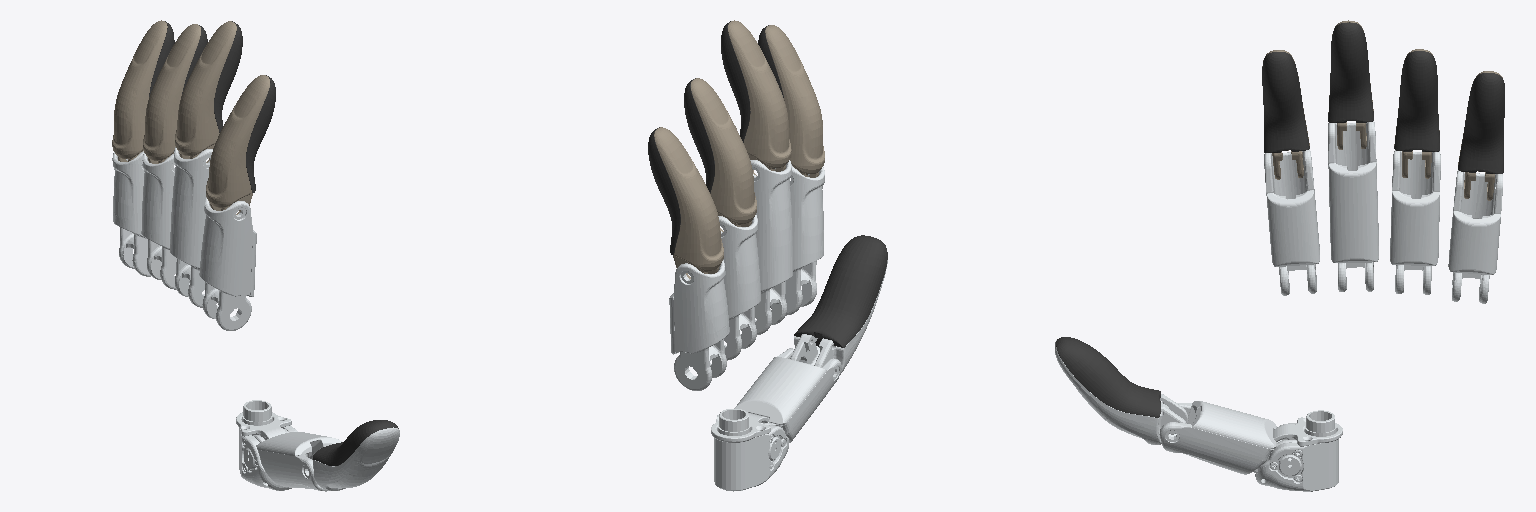
robot.urdf — ruihand6z:
<?xml version="1.0" encoding="utf-8"?>
<!-- This URDF was automatically created by SolidWorks to URDF Exporter! Originally created by [author] ([email redacted]) 
     Commit Version: 1.6.0-4-g7f85cfe  Build Version: 1.6.7995.38578
     For more information, please see http://wiki.ros.org/sw_urdf_exporter -->
<robot
  name="ruihand6z">
  <link
    name="base_link">
    <inertial>
      <origin
        xyz="-0.00261509912067082 -0.00202384901005411 0.0609899196930254"
        rpy="0 0 0" />
      <mass
        value="0.144625530976132" />
      <inertia
        ixx="0.000133309599124317"
        ixy="-1.82145713429529E-07"
        ixz="3.32894452619656E-06"
        iyy="8.49751509488818E-05"
        iyz="1.7292812695271E-06"
        izz="6.01735771930698E-05" />
    </inertial>
    <visual>
      <origin
        xyz="0 0 0"
        rpy="0 0 0" />
      <geometry>
        <mesh
          filename="package://ruihand6z/meshes/base_link.STL" />
      </geometry>
      <material
        name="">
        <color
          rgba="0.898039215686275 0.917647058823529 0.929411764705882 1" />
      </material>
    </visual>
    <collision>
      <origin
        xyz="0 0 0"
        rpy="0 0 0" />
      <geometry>
        <mesh
          filename="package://ruihand6z/meshes/base_link.STL" />
      </geometry>
    </collision>
  </link>
  <link
    name="fz11_Link">
    <inertial>
      <origin
        xyz="-0.00636137464373584 1.32504361038954E-07 0.00938049379418998"
        rpy="0 0 0" />
      <mass
        value="0.0118860026879453" />
      <inertia
        ixx="7.74702988388344E-07"
        ixy="9.44838007032962E-12"
        ixz="-1.45349151739363E-07"
        iyy="1.06344992792549E-06"
        iyz="7.07126022924055E-12"
        izz="1.01259075358287E-06" />
    </inertial>
    <visual>
      <origin
        xyz="0 0 0"
        rpy="0 0 0" />
      <geometry>
        <mesh
          filename="package://ruihand6z/meshes/fz11_Link.STL" />
      </geometry>
      <material
        name="">
        <color
          rgba="0.898039215686275 0.917647058823529 0.929411764705882 1" />
      </material>
    </visual>
    <collision>
      <origin
        xyz="0 0 0"
        rpy="0 0 0" />
      <geometry>
        <mesh
          filename="package://ruihand6z/meshes/fz11_Link.STL" />
      </geometry>
    </collision>
  </link>
  <joint
    name="fz11"
    type="revolute">
    <origin
      xyz="0.0135 -0.022 0.0398"
      rpy="0 0 1.5708" />
    <parent
      link="base_link" />
    <child
      link="fz11_Link" />
    <axis
      xyz="0 0 1" />
    <limit
      lower="0"
      upper="2.356"
      effort="0"
      velocity="0" />
  </joint>
  <link
    name="fz12_Link">
    <inertial>
      <origin
        xyz="-0.0171306596068069 0.00371895991913085 4.99658495023425E-07"
        rpy="0 0 0" />
      <mass
        value="0.0125497959689692" />
      <inertia
        ixx="8.09093816336842E-07"
        ixy="5.16426686845547E-07"
        ixz="2.07629546130886E-10"
        iyy="2.83181034231341E-06"
        iyz="1.04480554936718E-11"
        izz="2.66845480195757E-06" />
    </inertial>
    <visual>
      <origin
        xyz="0 0 0"
        rpy="0 0 0" />
      <geometry>
        <mesh
          filename="package://ruihand6z/meshes/fz12_Link.STL" />
      </geometry>
      <material
        name="">
        <color
          rgba="0.898039215686275 0.917647058823529 0.929411764705882 1" />
      </material>
    </visual>
    <collision>
      <origin
        xyz="0 0 0"
        rpy="0 0 0" />
      <geometry>
        <mesh
          filename="package://ruihand6z/meshes/fz12_Link.STL" />
      </geometry>
    </collision>
  </link>
  <joint
    name="fz12"
    type="revolute">
    <origin
      xyz="-0.0105 0 0.0107"
      rpy="1.5708 0 0" />
    <parent
      link="fz11_Link" />
    <child
      link="fz12_Link" />
    <axis
      xyz="0 0 -1" />
    <limit
      lower="0"
      upper="0.698"
      effort="0"
      velocity="0" />
  </joint>
  <link
    name="fz13_Link">
    <inertial>
      <origin
        xyz="-0.0158452246782004 0.00619313031274138 -5.24698446713323E-06"
        rpy="0 0 0" />
      <mass
        value="0.00766844548693782" />
      <inertia
        ixx="7.70926142561633E-07"
        ixy="6.47378725305476E-07"
        ixz="-6.26868773712833E-10"
        iyy="1.36028636261355E-06"
        iyz="3.0858883161577E-10"
        izz="1.6484807866159E-06" />
    </inertial>
    <visual>
      <origin
        xyz="0 0 0"
        rpy="0 0 0" />
      <geometry>
        <mesh
          filename="package://ruihand6z/meshes/fz13_Link.STL" />
      </geometry>
      <material
        name="">
        <color
          rgba="0.898039215686275 0.917647058823529 0.929411764705882 1" />
      </material>
    </visual>
    <collision>
      <origin
        xyz="0 0 0"
        rpy="0 0 0" />
      <geometry>
        <mesh
          filename="package://ruihand6z/meshes/fz13_Link.STL" />
      </geometry>
    </collision>
  </link>
  <joint
    name="fz13"
    type="revolute">
    <origin
      xyz="-0.040457 0.011223 0"
      rpy="0 0 0" />
    <parent
      link="fz12_Link" />
    <child
      link="fz13_Link" />
    <axis
      xyz="0 0 -1" />
    <limit
      lower="0"
      upper="1.169"
      effort="0"
      velocity="0" />
  </joint>
  <link
    name="fz14_Link">
    <inertial>
      <origin
        xyz="6.84221826707798E-06 -0.00329677647235913 -0.0165004874842477"
        rpy="0 0 0" />
      <mass
        value="0.00378673281389061" />
      <inertia
        ixx="4.70044970140894E-07"
        ixy="-9.16610951761662E-13"
        ixz="9.80771601813381E-11"
        iyy="4.91875647343619E-07"
        iyz="-1.26714352849381E-07"
        izz="1.41742406291919E-07" />
    </inertial>
    <visual>
      <origin
        xyz="0 0 0"
        rpy="0 0 0" />
      <geometry>
        <mesh
          filename="package://ruihand6z/meshes/fz14_Link.STL" />
      </geometry>
      <material
        name="">
        <color
          rgba="0.298039215686275 0.298039215686275 0.298039215686275 1" />
      </material>
    </visual>
    <collision>
      <origin
        xyz="0 0 0"
        rpy="0 0 0" />
      <geometry>
        <mesh
          filename="package://ruihand6z/meshes/fz14_Link.STL" />
      </geometry>
    </collision>
  </link>
  <joint
    name="fz14"
    type="revolute">
    <origin
      xyz="-0.036284 0.0268 0"
      rpy="-0.3665 -1.5708 0" />
    <parent
      link="fz13_Link" />
    <child
      link="fz14_Link" />
    <axis
      xyz="0 0 -1" />
    <limit
      lower="0"
      upper="0"
      effort="0"
      velocity="0" />
  </joint>
  <link
    name="fz21_Link">
    <inertial>
      <origin
        xyz="-0.0183100214086785 -0.00110403770235035 1.45621593276163E-06"
        rpy="0 0 0" />
      <mass
        value="0.0100639388101722" />
      <inertia
        ixx="4.62549859534186E-07"
        ixy="-1.43110207723793E-07"
        ixz="2.05628850227063E-10"
        iyy="2.22041832229495E-06"
        iyz="7.63349863278686E-11"
        izz="2.08162821109976E-06" />
    </inertial>
    <visual>
      <origin
        xyz="0 0 0"
        rpy="0 0 0" />
      <geometry>
        <mesh
          filename="package://ruihand6z/meshes/fz21_Link.STL" />
      </geometry>
      <material
        name="">
        <color
          rgba="0.898039215686275 0.917647058823529 0.929411764705882 1" />
      </material>
    </visual>
    <collision>
      <origin
        xyz="0 0 0"
        rpy="0 0 0" />
      <geometry>
        <mesh
          filename="package://ruihand6z/meshes/fz21_Link.STL" />
      </geometry>
    </collision>
  </link>
  <joint
    name="fz21"
    type="revolute">
    <origin
      xyz="-0.0035 -0.029833 0.11095"
      rpy="3.1416 1.4923 1.5708" />
    <parent
      link="base_link" />
    <child
      link="fz21_Link" />
    <axis
      xyz="0 0 -1" />
    <limit
      lower="0"
      upper="1.518"
      effort="0"
      velocity="0" />
  </joint>
  <link
    name="fz22_Link">
    <inertial>
      <origin
        xyz="-0.0162663890924856 -0.00032857563536115 7.63729580743888E-07"
        rpy="0 0 0" />
      <mass
        value="0.00358588124079119" />
      <inertia
        ixx="1.44429040318132E-07"
        ixy="1.05993289352036E-07"
        ixz="-2.72822254662679E-11"
        iyy="7.23455267802395E-07"
        iyz="3.04879521204743E-11"
        izz="7.27926306560542E-07" />
    </inertial>
    <visual>
      <origin
        xyz="0 0 0"
        rpy="0 0 0" />
      <geometry>
        <mesh
          filename="package://ruihand6z/meshes/fz22_Link.STL" />
      </geometry>
      <material
        name="">
        <color
          rgba="0.658823529411765 0.619607843137255 0.56078431372549 1" />
      </material>
    </visual>
    <collision>
      <origin
        xyz="0 0 0"
        rpy="0 0 0" />
      <geometry>
        <mesh
          filename="package://ruihand6z/meshes/fz22_Link.STL" />
      </geometry>
    </collision>
  </link>
  <joint
    name="fz22"
    type="revolute">
    <origin
      xyz="-0.0419 -0.001 0"
      rpy="0 0 0" />
    <parent
      link="fz21_Link" />
    <child
      link="fz22_Link" />
    <axis
      xyz="0 0 -1" />
    <limit
      lower="0"
      upper="1.623"
      effort="0"
      velocity="0" />
  </joint>
  <link
    name="fz23_Link">
    <inertial>
      <origin
        xyz="5.01939634914121E-06 0.00358041979242141 -0.0177336235160931"
        rpy="0 0 0" />
      <mass
        value="0.00260328499217126" />
      <inertia
        ixx="3.22603614487991E-07"
        ixy="-6.28873843071622E-12"
        ixz="9.57453494543153E-11"
        iyy="3.1137947502367E-07"
        iyz="9.01377966391627E-08"
        izz="7.26739486599914E-08" />
    </inertial>
    <visual>
      <origin
        xyz="0 0 0"
        rpy="0 0 0" />
      <geometry>
        <mesh
          filename="package://ruihand6z/meshes/fz23_Link.STL" />
      </geometry>
      <material
        name="">
        <color
          rgba="0.298039215686275 0.298039215686275 0.298039215686275 1" />
      </material>
    </visual>
    <collision>
      <origin
        xyz="0 0 0"
        rpy="0 0 0" />
      <geometry>
        <mesh
          filename="package://ruihand6z/meshes/fz23_Link.STL" />
      </geometry>
    </collision>
  </link>
  <joint
    name="fz23"
    type="revolute">
    <origin
      xyz="-0.043692 0.011217 0"
      rpy="1.5708 1.5695 -1.5543" />
    <parent
      link="fz22_Link" />
    <child
      link="fz23_Link" />
    <axis
      xyz="0 0 -1" />
    <limit
      lower="0"
      upper="0"
      effort="0"
      velocity="0" />
  </joint>
  <link
    name="fz31_Link">
    <inertial>
      <origin
        xyz="-0.0233372043143448 -0.000590478503409209 1.04886742833708E-06"
        rpy="0 0 0" />
      <mass
        value="0.00829865788114667" />
      <inertia
        ixx="3.67197735996417E-07"
        ixy="-1.18936164176857E-07"
        ixz="1.55843724157167E-10"
        iyy="2.3734329678931E-06"
        iyz="3.77450724437793E-11"
        izz="2.26081374668809E-06" />
    </inertial>
    <visual>
      <origin
        xyz="0 0 0"
        rpy="0 0 0" />
      <geometry>
        <mesh
          filename="package://ruihand6z/meshes/fz31_Link.STL" />
      </geometry>
      <material
        name="">
        <color
          rgba="0.898039215686275 0.917647058823529 0.929411764705882 1" />
      </material>
    </visual>
    <collision>
      <origin
        xyz="0 0 0"
        rpy="0 0 0" />
      <geometry>
        <mesh
          filename="package://ruihand6z/meshes/fz31_Link.STL" />
      </geometry>
    </collision>
  </link>
  <joint
    name="fz31"
    type="revolute">
    <origin
      xyz="-0.0035 -0.009945 0.112"
      rpy="3.1416 1.5446 1.5708" />
    <parent
      link="base_link" />
    <child
      link="fz31_Link" />
    <axis
      xyz="0 0 -1" />
    <limit
      lower="0"
      upper="1.571"
      effort="0"
      velocity="0" />
  </joint>
  <link
    name="fz32_Link">
    <inertial>
      <origin
        xyz="-0.016267707795044 -0.000256548647881605 7.09501456184949E-07"
        rpy="0 0 0" />
      <mass
        value="0.00358589458230619" />
      <inertia
        ixx="1.45377941149196E-07"
        ixy="1.08551160226217E-07"
        ixz="-3.05507403832043E-11"
        iyy="7.22506767907826E-07"
        iyz="3.07132553302964E-11"
        izz="7.27926863638964E-07" />
    </inertial>
    <visual>
      <origin
        xyz="0 0 0"
        rpy="0 0 0" />
      <geometry>
        <mesh
          filename="package://ruihand6z/meshes/fz32_Link.STL" />
      </geometry>
      <material
        name="">
        <color
          rgba="0.658823529411765 0.619607843137255 0.56078431372549 1" />
      </material>
    </visual>
    <collision>
      <origin
        xyz="0 0 0"
        rpy="0 0 0" />
      <geometry>
        <mesh
          filename="package://ruihand6z/meshes/fz32_Link.STL" />
      </geometry>
    </collision>
  </link>
  <joint
    name="fz32"
    type="revolute">
    <origin
      xyz="-0.0519 -0.001 0"
      rpy="0 0 0" />
    <parent
      link="fz31_Link" />
    <child
      link="fz32_Link" />
    <axis
      xyz="0 0 -1" />
    <limit
      lower="0"
      upper="1.641"
      effort="0"
      velocity="0" />
  </joint>
  <link
    name="fz33_Link">
    <inertial>
      <origin
        xyz="1.37260992284912E-06 0.0035803233705618 -0.0177332743500691"
        rpy="0 0 0" />
      <mass
        value="0.00260331177753113" />
      <inertia
        ixx="3.22618051421039E-07"
        ixy="3.25713153352679E-12"
        ixz="9.69403513262157E-12"
        iyy="3.11391716342147E-07"
        iyz="9.01418764699119E-08"
        izz="7.26739552705994E-08" />
    </inertial>
    <visual>
      <origin
        xyz="0 0 0"
        rpy="0 0 0" />
      <geometry>
        <mesh
          filename="package://ruihand6z/meshes/fz33_Link.STL" />
      </geometry>
      <material
        name="">
        <color
          rgba="0.298039215686275 0.298039215686275 0.298039215686275 1" />
      </material>
    </visual>
    <collision>
      <origin
        xyz="0 0 0"
        rpy="0 0 0" />
      <geometry>
        <mesh
          filename="package://ruihand6z/meshes/fz33_Link.STL" />
      </geometry>
    </collision>
  </link>
  <joint
    name="fz33"
    type="revolute">
    <origin
      xyz="-0.043641 0.01141 0"
      rpy="1.5708 1.5705 -1.5587" />
    <parent
      link="fz32_Link" />
    <child
      link="fz33_Link" />
    <axis
      xyz="0 0 -1" />
    <limit
      lower="0"
      upper="0"
      effort="0"
      velocity="0" />
  </joint>
  <link
    name="fz41_Link">
    <inertial>
      <origin
        xyz="-0.0183100239662456 -0.00110404357001215 1.44449168429719E-06"
        rpy="0 0 0" />
      <mass
        value="0.0100639395246075" />
      <inertia
        ixx="4.62549923176114E-07"
        ixy="-1.43110791933657E-07"
        ixz="2.04440787125584E-10"
        iyy="2.22041842134978E-06"
        iyz="7.50863566540316E-11"
        izz="2.0816291905166E-06" />
    </inertial>
    <visual>
      <origin
        xyz="0 0 0"
        rpy="0 0 0" />
      <geometry>
        <mesh
          filename="package://ruihand6z/meshes/fz41_Link.STL" />
      </geometry>
      <material
        name="">
        <color
          rgba="0.898039215686275 0.917647058823529 0.929411764705882 1" />
      </material>
    </visual>
    <collision>
      <origin
        xyz="0 0 0"
        rpy="0 0 0" />
      <geometry>
        <mesh
          filename="package://ruihand6z/meshes/fz41_Link.STL" />
      </geometry>
    </collision>
  </link>
  <joint
    name="fz41"
    type="revolute">
    <origin
      xyz="-0.0035 0.009945 0.11099"
      rpy="0 1.5446 -1.5708" />
    <parent
      link="base_link" />
    <child
      link="fz41_Link" />
    <axis
      xyz="0 0 -1" />
    <limit
      lower="0"
      upper="1.571"
      effort="0"
      velocity="0" />
  </joint>
  <link
    name="fz42_Link">
    <inertial>
      <origin
        xyz="-0.0162670020037646 -0.000328352735815995 3.07883416161142E-07"
        rpy="0 0 0" />
      <mass
        value="0.00358604216233826" />
      <inertia
        ixx="1.44429145926852E-07"
        ixy="1.06000284346228E-07"
        ixz="-4.96653342664326E-11"
        iyy="7.23505035419092E-07"
        iyz="2.38944350125517E-11"
        izz="7.2797707549858E-07" />
    </inertial>
    <visual>
      <origin
        xyz="0 0 0"
        rpy="0 0 0" />
      <geometry>
        <mesh
          filename="package://ruihand6z/meshes/fz42_Link.STL" />
      </geometry>
      <material
        name="">
        <color
          rgba="0.658823529411765 0.619607843137255 0.56078431372549 1" />
      </material>
    </visual>
    <collision>
      <origin
        xyz="0 0 0"
        rpy="0 0 0" />
      <geometry>
        <mesh
          filename="package://ruihand6z/meshes/fz42_Link.STL" />
      </geometry>
    </collision>
  </link>
  <joint
    name="fz42"
    type="revolute">
    <origin
      xyz="-0.0419 -0.001 0"
      rpy="0 0 0" />
    <parent
      link="fz41_Link" />
    <child
      link="fz42_Link" />
    <axis
      xyz="0 0 -1" />
    <limit
      lower="0"
      upper="1.658"
      effort="0"
      velocity="0" />
  </joint>
  <link
    name="fz43_Link">
    <inertial>
      <origin
        xyz="-1.80939820419376E-06 0.0035802583127047 -0.0177330843414484"
        rpy="0 0 0" />
      <mass
        value="0.00260328927031042" />
      <inertia
        ixx="3.22619446745819E-07"
        ixy="5.22933144242645E-12"
        ixz="-4.37845727909771E-11"
        iyy="3.11392771355379E-07"
        iyz="9.01416934497917E-08"
        izz="7.26723312106009E-08" />
    </inertial>
    <visual>
      <origin
        xyz="0 0 0"
        rpy="0 0 0" />
      <geometry>
        <mesh
          filename="package://ruihand6z/meshes/fz43_Link.STL" />
      </geometry>
      <material
        name="">
        <color
          rgba="0.298039215686275 0.298039215686275 0.298039215686275 1" />
      </material>
    </visual>
    <collision>
      <origin
        xyz="0 0 0"
        rpy="0 0 0" />
      <geometry>
        <mesh
          filename="package://ruihand6z/meshes/fz43_Link.STL" />
      </geometry>
    </collision>
  </link>
  <joint
    name="fz43"
    type="revolute">
    <origin
      xyz="-0.043692 0.011217 0"
      rpy="-1.5708 1.5704 1.5873" />
    <parent
      link="fz42_Link" />
    <child
      link="fz43_Link" />
    <axis
      xyz="0 0 -1" />
    <limit
      lower="0"
      upper="0"
      effort="0"
      velocity="0" />
  </joint>
  <link
    name="fz51_Link">
    <inertial>
      <origin
        xyz="-0.0158684817906832 -0.00100262396836537 1.32847910480627E-06"
        rpy="0 0 0" />
      <mass
        value="0.00870573006547253" />
      <inertia
        ixx="3.93124077531552E-07"
        ixy="-1.16969518921071E-07"
        ixz="1.46116447151274E-10"
        iyy="1.63160381847551E-06"
        iyz="5.89909384492466E-11"
        izz="1.50797999524283E-06" />
    </inertial>
    <visual>
      <origin
        xyz="0 0 0"
        rpy="0 0 0" />
      <geometry>
        <mesh
          filename="package://ruihand6z/meshes/fz51_Link.STL" />
      </geometry>
      <material
        name="">
        <color
          rgba="0.898039215686275 0.917647058823529 0.929411764705882 1" />
      </material>
    </visual>
    <collision>
      <origin
        xyz="0 0 0"
        rpy="0 0 0" />
      <geometry>
        <mesh
          filename="package://ruihand6z/meshes/fz51_Link.STL" />
      </geometry>
    </collision>
  </link>
  <joint
    name="fz51"
    type="revolute">
    <origin
      xyz="-0.0035 0.029624 0.10795"
      rpy="0 1.4923 -1.5708" />
    <parent
      link="base_link" />
    <child
      link="fz51_Link" />
    <axis
      xyz="0 0 -1" />
    <limit
      lower="0"
      upper="1.545"
      effort="0"
      velocity="0" />
  </joint>
  <link
    name="fz52_Link">
    <inertial>
      <origin
        xyz="-0.0162670718963009 -0.000328217017429799 2.67080852364709E-07"
        rpy="0 0 0" />
      <mass
        value="0.00358606108430071" />
      <inertia
        ixx="1.44430667118152E-07"
        ixy="1.06005742555026E-07"
        ixz="-5.31901274841338E-11"
        iyy="7.23506245846155E-07"
        iyz="2.3839216263499E-11"
        izz="7.279802802298E-07" />
    </inertial>
    <visual>
      <origin
        xyz="0 0 0"
        rpy="0 0 0" />
      <geometry>
        <mesh
          filename="package://ruihand6z/meshes/fz52_Link.STL" />
      </geometry>
      <material
        name="">
        <color
          rgba="0.658823529411765 0.619607843137255 0.56078431372549 1" />
      </material>
    </visual>
    <collision>
      <origin
        xyz="0 0 0"
        rpy="0 0 0" />
      <geometry>
        <mesh
          filename="package://ruihand6z/meshes/fz52_Link.STL" />
      </geometry>
    </collision>
  </link>
  <joint
    name="fz52"
    type="revolute">
    <origin
      xyz="-0.0369 -0.001 0"
      rpy="0 0 0" />
    <parent
      link="fz51_Link" />
    <child
      link="fz52_Link" />
    <axis
      xyz="0 0 -1" />
    <limit
      lower="0"
      upper="1.658"
      effort="0"
      velocity="0" />
  </joint>
  <link
    name="fz53_Link">
    <inertial>
      <origin
        xyz="-5.01630269825887E-06 0.00358024546548252 -0.0177330754396588"
        rpy="0 0 0" />
      <mass
        value="0.00260328329004836" />
      <inertia
        ixx="3.22616272404965E-07"
        ixy="1.35246112705223E-11"
        ixz="-1.19647172462991E-10"
        iyy="3.11389657789929E-07"
        iyz="9.01411448719963E-08"
        izz="7.26723107121053E-08" />
    </inertial>
    <visual>
      <origin
        xyz="0 0 0"
        rpy="0 0 0" />
      <geometry>
        <mesh
          filename="package://ruihand6z/meshes/fz53_Link.STL" />
      </geometry>
      <material
        name="">
        <color
          rgba="0.298039215686275 0.298039215686275 0.298039215686275 1" />
      </material>
    </visual>
    <collision>
      <origin
        xyz="0 0 0"
        rpy="0 0 0" />
      <geometry>
        <mesh
          filename="package://ruihand6z/meshes/fz53_Link.STL" />
      </geometry>
    </collision>
  </link>
  <joint
    name="fz53"
    type="revolute">
    <origin
      xyz="-0.043691 0.011217 0"
      rpy="-1.5708 1.5695 1.5873" />
    <parent
      link="fz52_Link" />
    <child
      link="fz53_Link" />
    <axis
      xyz="0 0 -1" />
    <limit
      lower="0"
      upper="0"
      effort="0"
      velocity="0" />
  </joint>
</robot>

--- What the picture shows (computed from the rendered views, not written in the file) ---
The picture shows the robot from 3 angles, left to right: view 1: azimuth 30°, elevation 25°; view 2: azimuth 150°, elevation 25°; view 3: azimuth 270°, elevation 25°; orthographic projection.
Model ruihand6z with 17 links and 16 joints (16 revolute), rooted at base_link, posed every joint at zero.
Visible links, largest first — view 1: fz21_Link, fz31_Link, fz22_Link, fz32_Link, fz42_Link, fz52_Link, fz41_Link, fz51_Link, fz12_Link, fz13_Link, fz11_Link, fz14_Link (+2 smaller); view 2: fz51_Link, fz14_Link, fz31_Link, fz52_Link, fz12_Link, fz11_Link, fz32_Link, fz42_Link, fz22_Link, fz41_Link, fz21_Link, fz13_Link (+3 smaller); view 3: fz31_Link, fz12_Link, fz21_Link, fz41_Link, fz51_Link, fz11_Link, fz43_Link, fz53_Link, fz23_Link, fz33_Link, fz14_Link, fz13_Link.
Boxes of the visible links, x1,y1,x2,y2 form: fz21_Link: (199,197,256,330); fz31_Link: (170,147,212,307); fz22_Link: (206,75,269,214); fz32_Link: (175,21,236,162); fz42_Link: (143,24,200,163); fz52_Link: (112,20,167,161); fz41_Link: (141,153,189,289); fz51_Link: (112,151,161,276); fz12_Link: (253,429,341,491); fz13_Link: (310,427,399,490); fz11_Link: (236,400,297,490); fz14_Link: (313,420,398,465); fz51_Link: (669,260,729,390); fz14_Link: (794,235,887,347); fz31_Link: (750,160,792,334); fz52_Link: (654,127,723,278); fz12_Link: (734,348,841,442); fz11_Link: (711,409,788,491); fz32_Link: (728,20,791,175); fz42_Link: (691,78,756,231); fz22_Link: (765,25,824,177); fz41_Link: (718,215,760,360); fz21_Link: (770,166,824,315); fz13_Link: (790,260,887,374); fz31_Link: (1328,121,1378,291); fz12_Link: (1159,401,1296,474); fz21_Link: (1264,149,1319,295); fz41_Link: (1390,150,1440,294); fz51_Link: (1448,170,1502,303); fz11_Link: (1255,410,1342,491); fz43_Link: (1394,51,1439,151); fz53_Link: (1458,73,1504,173); fz23_Link: (1262,52,1309,152); fz33_Link: (1328,22,1373,122); fz14_Link: (1056,337,1160,417); fz13_Link: (1055,340,1188,444).
Size in the robot's own frame: 0.0381 by 0.1551 by 0.1731 metres.
Meshes: 17 distinct files referenced, 16 mesh visuals loaded (16 binary STL); not drawn: 1 (reference not matched to a file when rendering).
